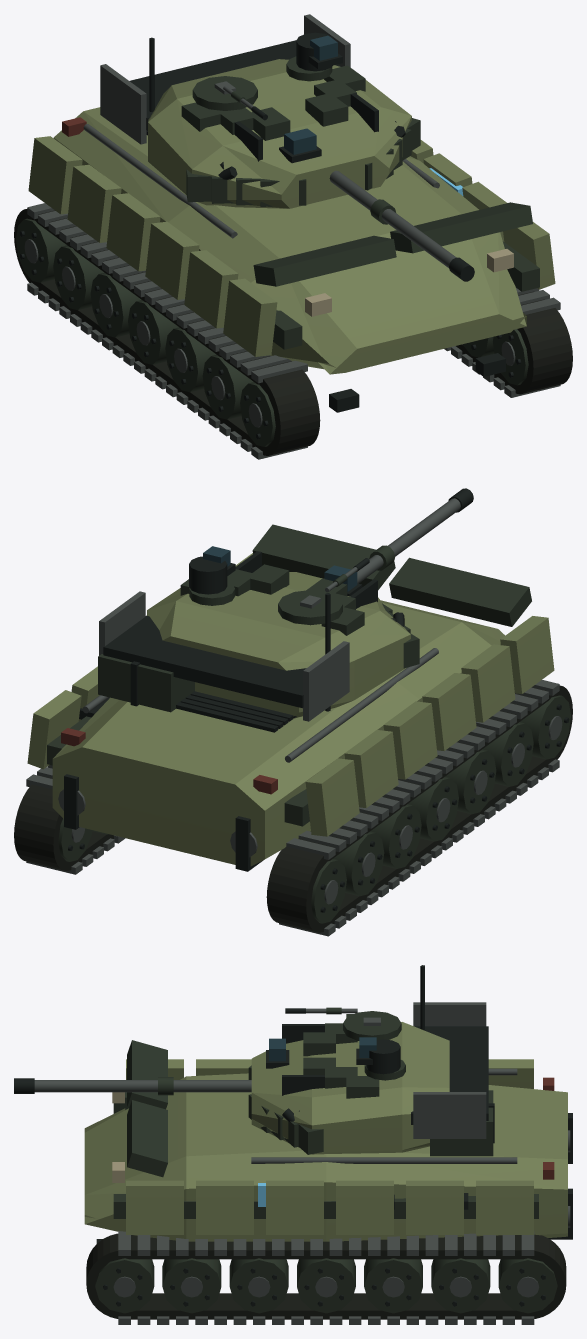
Rendered from lightTank.glb.
3 renders of one model, top to bottom at view 1: azimuth 30°, elevation 25°; view 2: azimuth 150°, elevation 25°; view 3: azimuth 270°, elevation 25°, orthographic. The views are drawn at different scales.
Visible parts, largest first — view 1: armor (×2), equipment (×3), glass; view 2: equipment (×3), armor (×2), glass; view 3: equipment (×4), armor (×2), glass.
Boxes of the visible parts, bbox=[...] form: armor (×2): bbox=[28, 59, 555, 374]; equipment (×3): bbox=[14, 14, 572, 459]; glass: bbox=[284, 35, 337, 154]; equipment (×3): bbox=[14, 488, 572, 936]; armor (×2): bbox=[27, 553, 554, 866]; glass: bbox=[203, 546, 357, 591]; equipment (×4): bbox=[14, 965, 572, 1324]; armor (×2): bbox=[84, 1022, 567, 1241]; glass: bbox=[269, 1037, 376, 1061].
Bounding box in the file's own units: 3.01 × 2.66 × 5.32.
